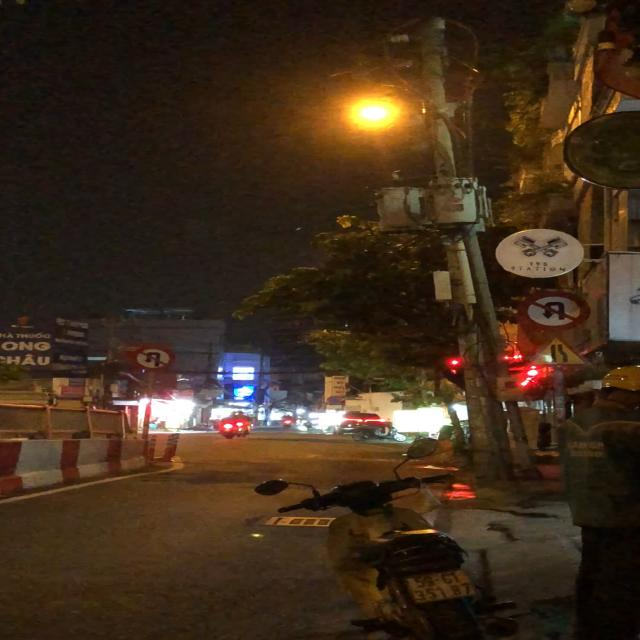Bien bao cam quay dau xe: (513, 288, 600, 330), (130, 342, 180, 372)
Bien bao duong bi thu hep: (524, 333, 593, 369)
